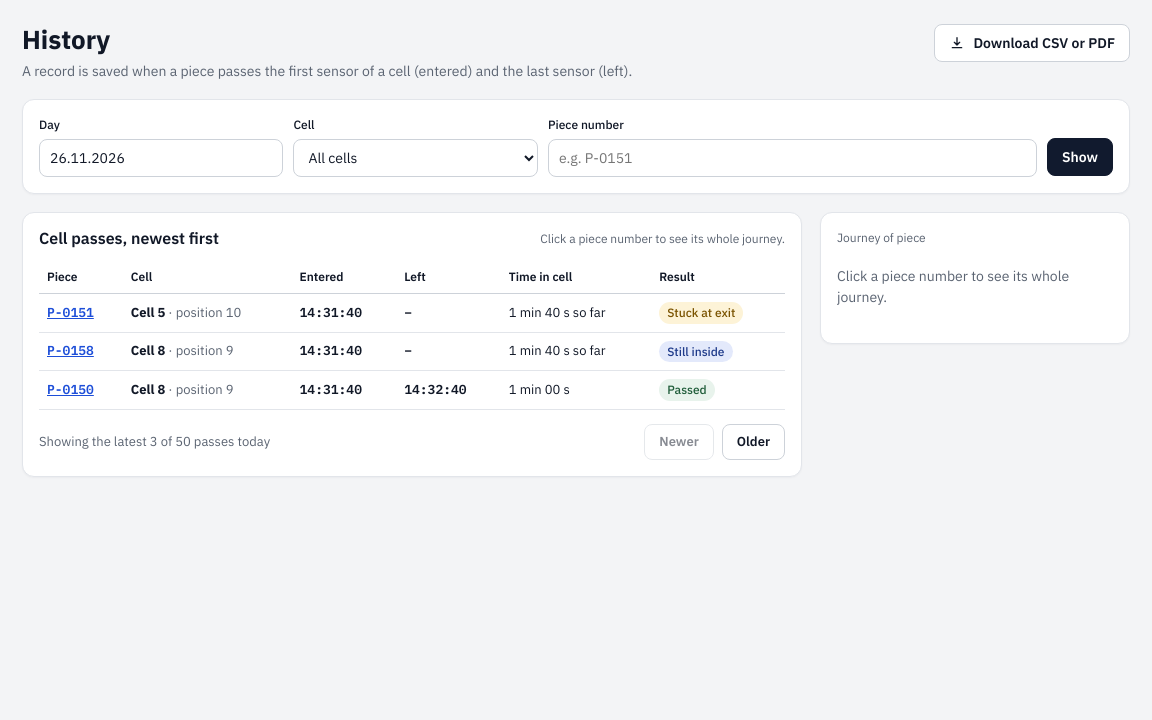
Test: History › opens the journey of a piece and highlights its rows
Click the button "P-0151" at (70, 313), box [47,304,94,322]
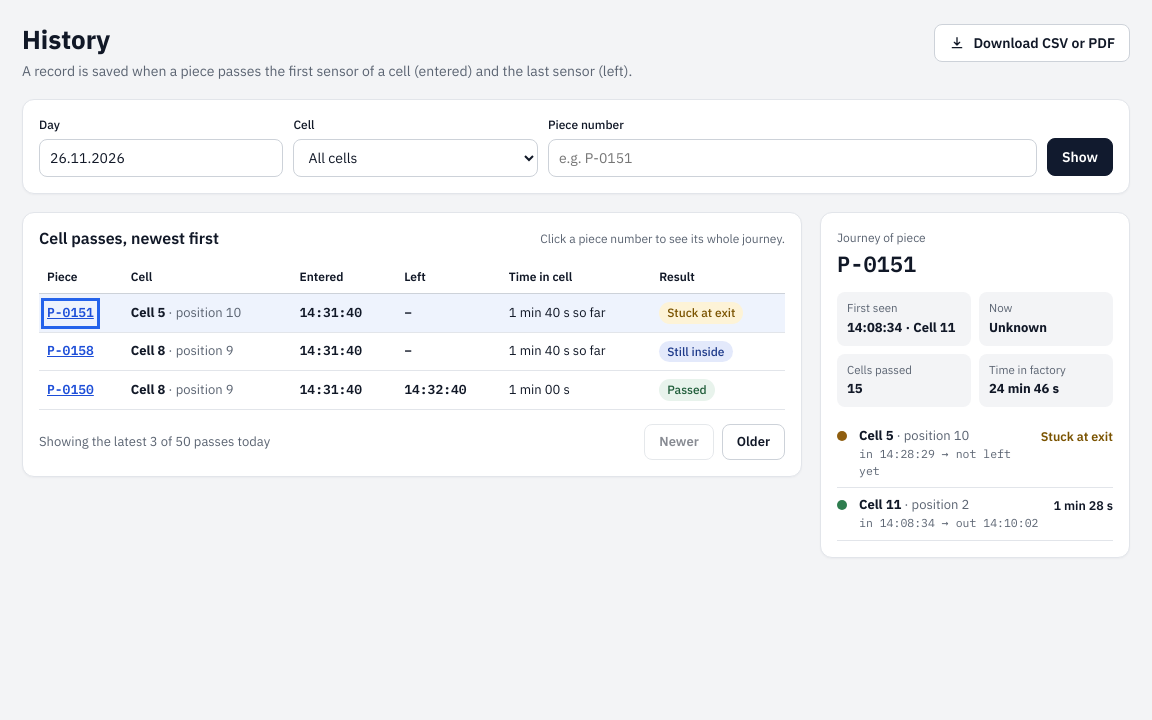
Now the text with test id "journey-code" reads "P-0151", box [837,249,916,278]
Now the text "15" is shown, box [847,380,863,397]
Now the text "24 min 46 s" is shown, box [989,380,1059,397]
